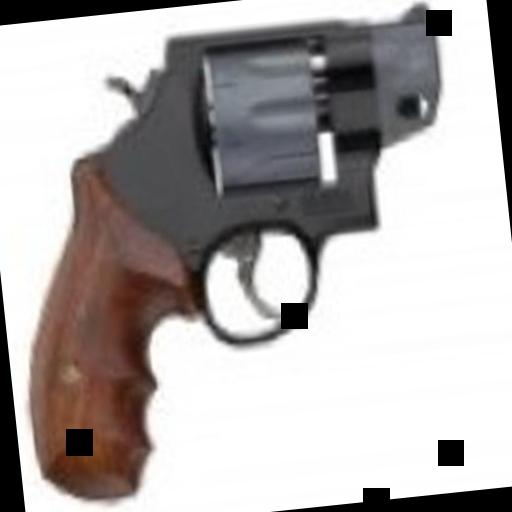Handgun: (0, 0, 475, 500)
